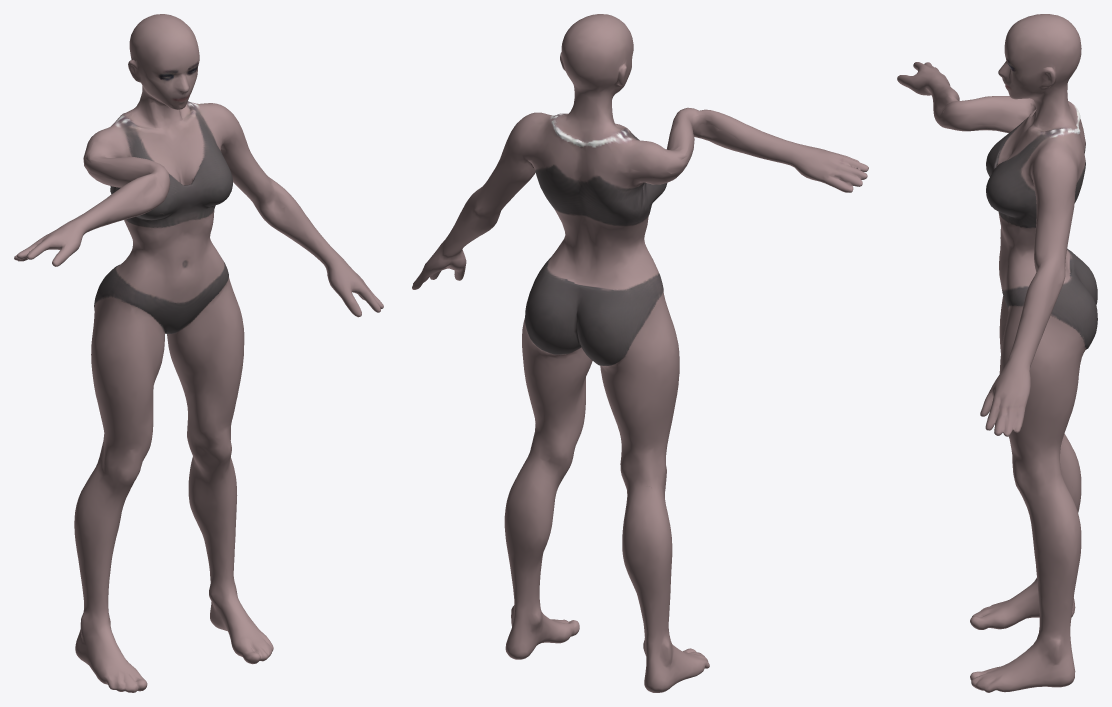
Rendered from 20-UpperArmL-90-child90-twist0-candidate.glb.
The picture shows the model from 3 angles, left to right: view 1: azimuth 30°, elevation 25°; view 2: azimuth 150°, elevation 25°; view 3: azimuth 270°, elevation 25°; orthographic projection. The views are drawn at different scales.
Visible parts, largest first — view 1: candidate; view 2: candidate; view 3: candidate.
Part boxes in pixels (x1,y1,x2,y2): candidate: [14, 14, 383, 692]; candidate: [412, 14, 868, 692]; candidate: [897, 14, 1097, 692].
Size of the model in its own units: 0.6636 by 1 by 0.2855.
Materials: 1 (1 with a texture image).
